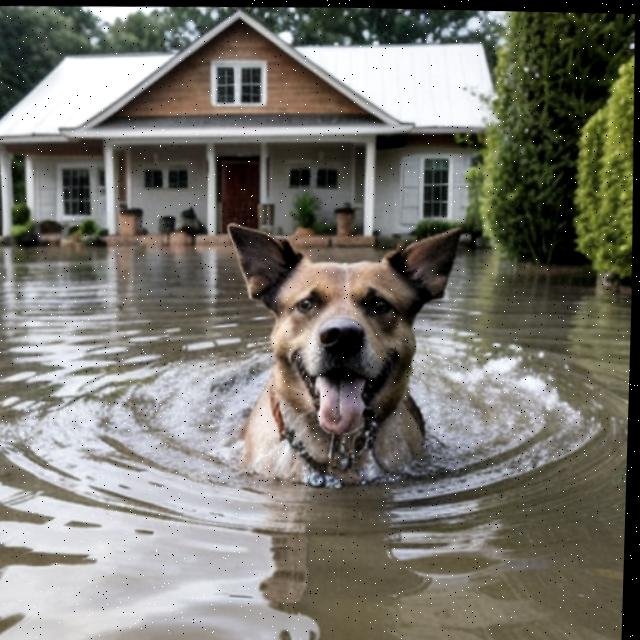dog: (186, 196, 477, 515)
